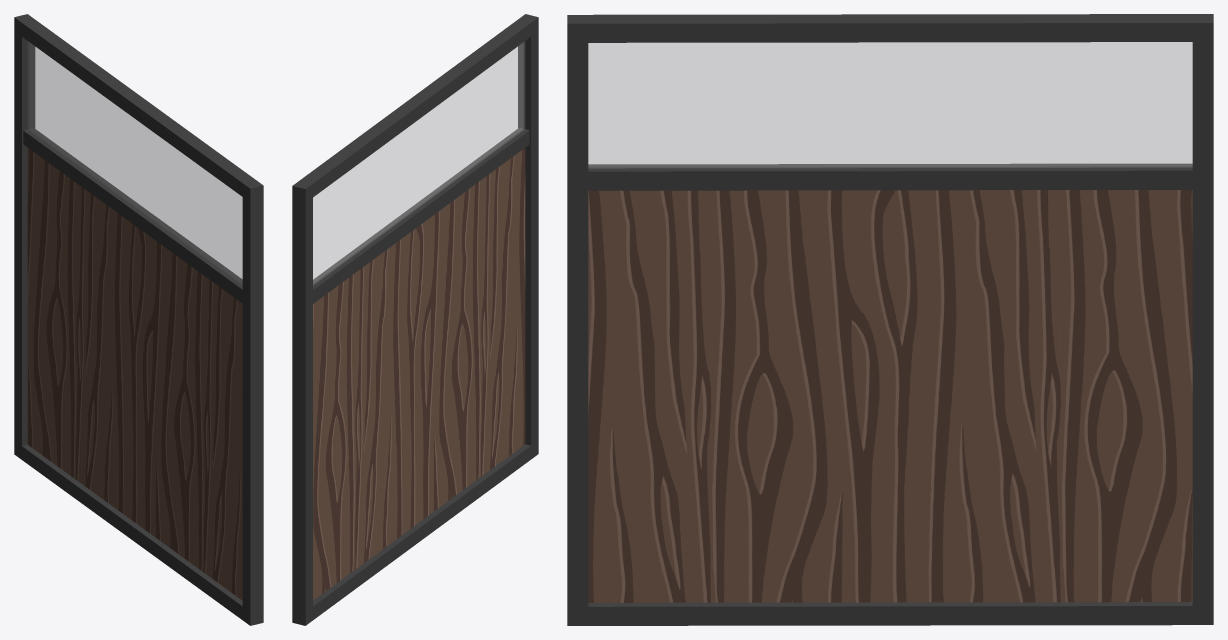
The model's file is Seperator17.fbx.
3 renders of one model, left to right at view 1: azimuth 30°, elevation 25°; view 2: azimuth 150°, elevation 25°; view 3: azimuth 270°, elevation 25°, orthographic. The views are drawn at different scales.
Parts seen in each view (by area): view 1: Seperator17; view 2: Seperator17; view 3: Seperator17.
Boxes of the visible parts, x1,y1,x2,y2 form: Seperator17: (14, 14, 263, 625); Seperator17: (292, 14, 538, 625); Seperator17: (567, 14, 1213, 625).
Bounding box in the file's own units: 0.055 × 1.53 × 1.58.
